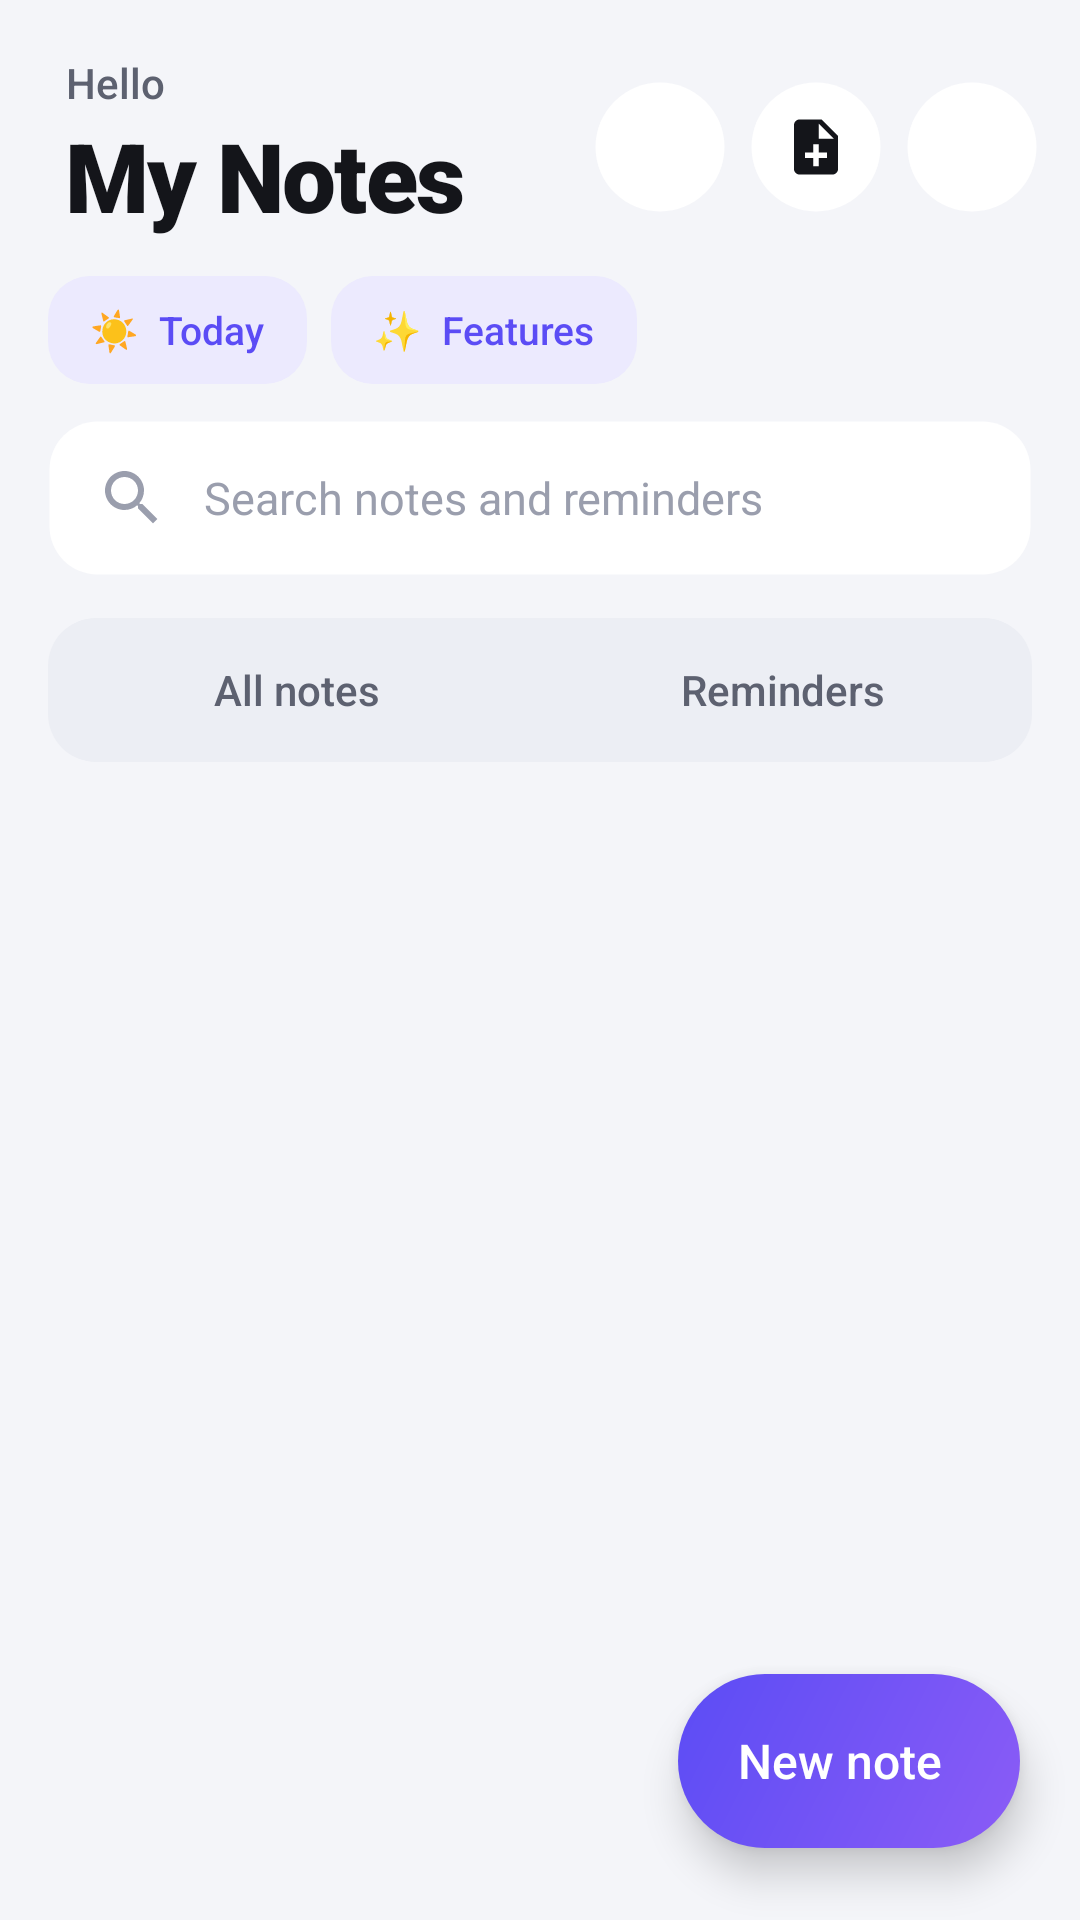

Where to tap for icons on this 1080*1920 app screen, as point (x, y):
Make a note from a photo, PDF or file: point (816, 147)
